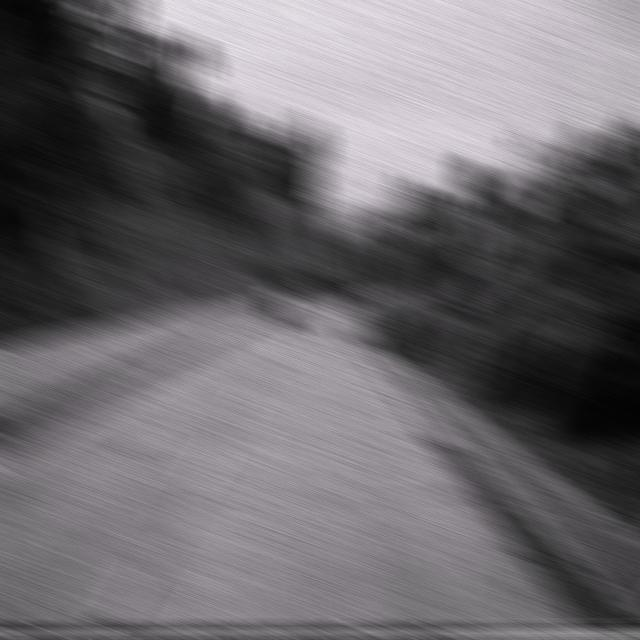yield: (490, 221, 522, 256)
